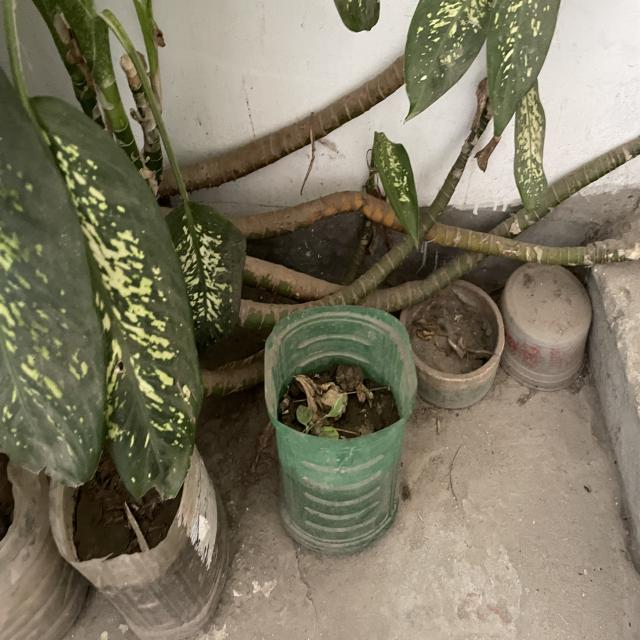Breeding Place: (52, 421, 238, 640), (262, 308, 401, 549), (498, 246, 589, 380), (403, 280, 498, 400)
